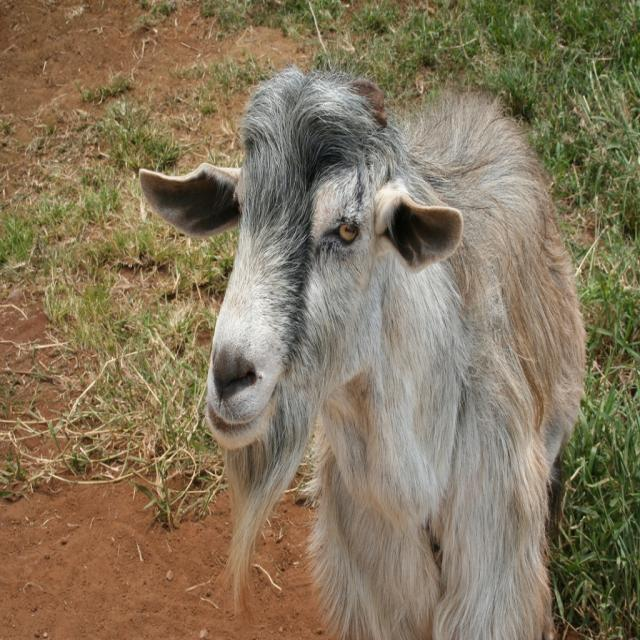Goat: (138, 49, 587, 640)
